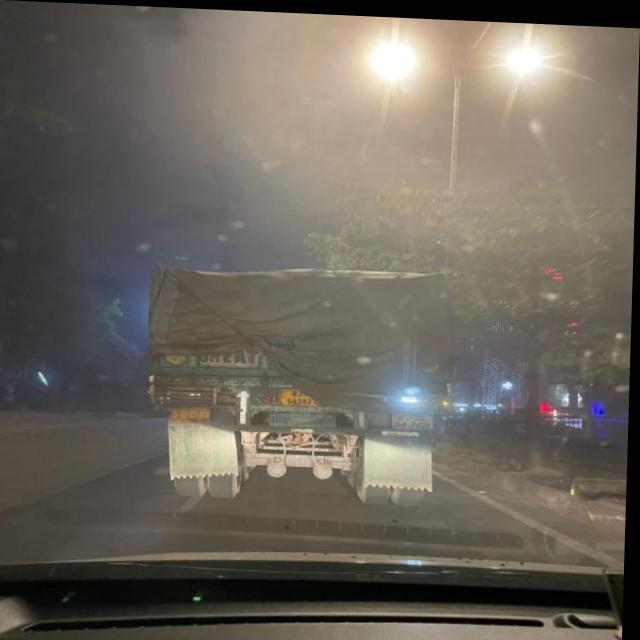covered: (139, 226, 456, 471)
